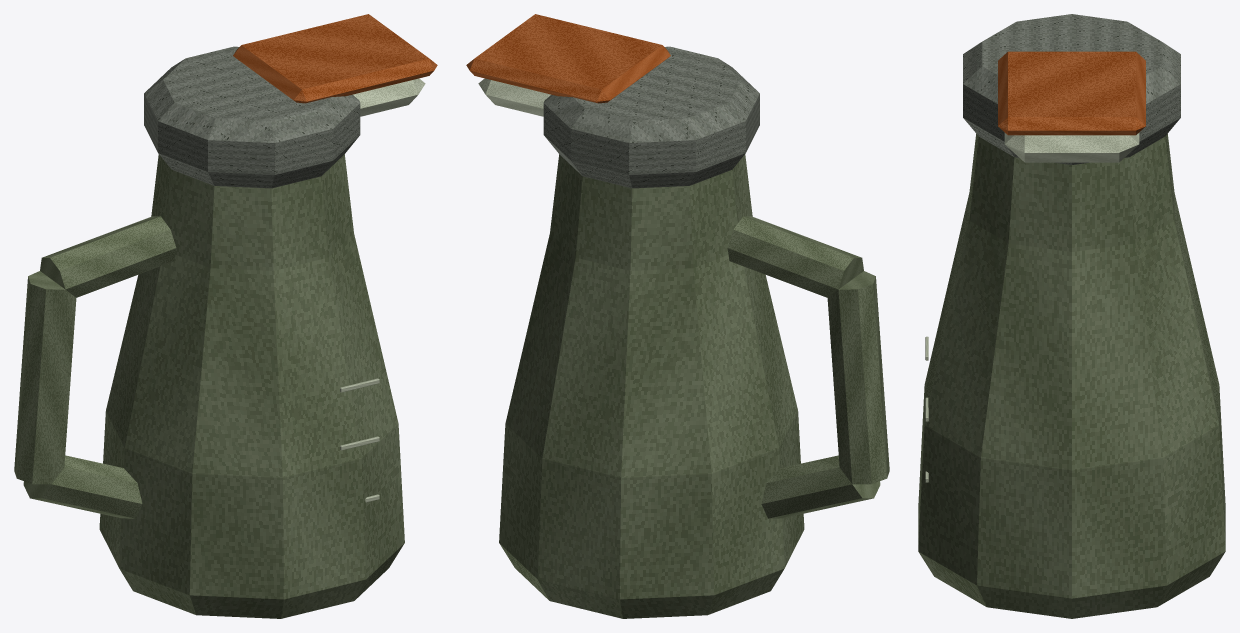
The model's file is blender_salt_3.glb.
3 renders of one model, left to right at view 1: azimuth 30°, elevation 25°; view 2: azimuth 150°, elevation 25°; view 3: azimuth 270°, elevation 25°, orthographic. The views are drawn at different scales.
Visible parts, largest first — view 1: blender_salt_3; view 2: blender_salt_3; view 3: blender_salt_3.
Part boxes in pixels (x1,y1,x2,y2): blender_salt_3: [14, 14, 437, 618]; blender_salt_3: [466, 14, 889, 618]; blender_salt_3: [918, 14, 1225, 618].
Bounding box in the file's own units: 0.141 × 0.169 × 0.0913.
Materials: 4 (4 with a texture image).
